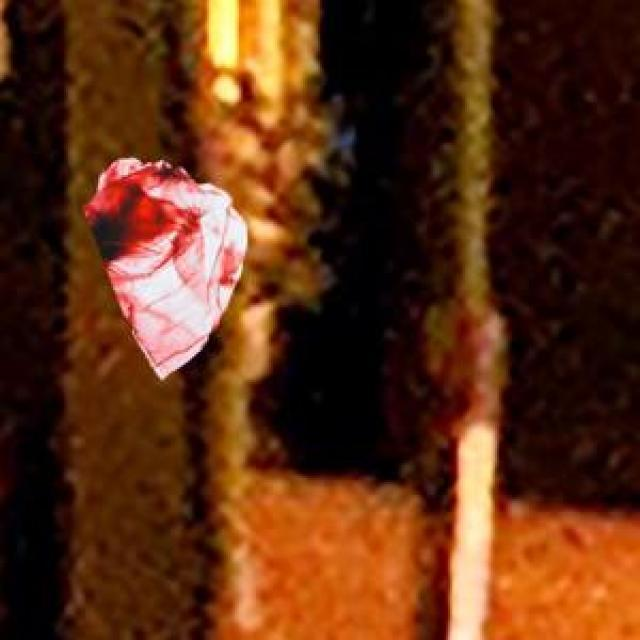waste: (84, 158, 248, 378)
